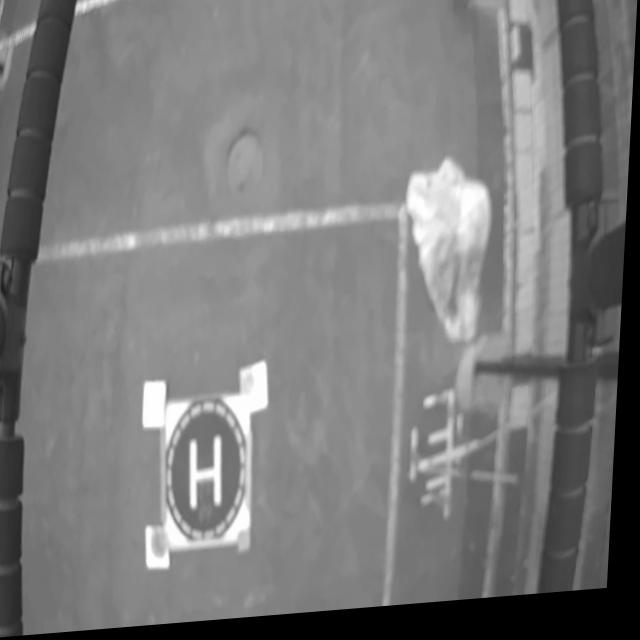Helipad: (193, 437, 228, 519)
